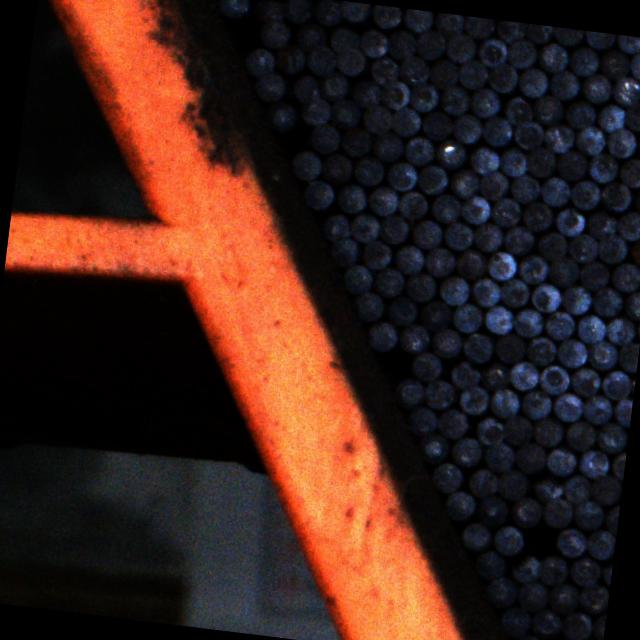tool: (550, 524, 588, 560), (428, 458, 464, 495), (345, 208, 382, 244), (445, 163, 481, 200), (441, 486, 477, 522), (452, 246, 488, 282), (512, 250, 548, 286), (534, 38, 570, 74), (544, 579, 580, 615), (417, 106, 454, 141), (496, 466, 530, 504), (484, 572, 519, 608), (422, 374, 457, 410), (240, 43, 276, 78), (290, 19, 328, 52), (529, 468, 564, 503), (543, 443, 578, 478), (391, 375, 426, 410), (418, 296, 453, 331), (460, 330, 496, 364), (349, 288, 385, 322), (384, 292, 420, 326), (372, 263, 406, 299), (544, 254, 580, 288), (300, 177, 336, 211), (392, 187, 428, 221), (316, 150, 352, 184), (251, 68, 287, 102), (256, 16, 292, 50), (566, 42, 600, 78), (566, 554, 602, 588), (570, 498, 606, 532), (588, 472, 624, 506), (562, 418, 598, 452), (580, 392, 614, 428), (593, 232, 629, 266), (598, 178, 634, 212), (528, 414, 566, 446), (513, 440, 548, 474), (416, 429, 450, 464), (407, 349, 442, 383), (396, 320, 431, 354), (339, 260, 374, 294), (589, 285, 624, 319), (518, 198, 554, 231), (351, 152, 387, 185), (370, 129, 406, 162), (328, 96, 364, 129), (575, 446, 611, 479), (356, 238, 393, 270), (498, 604, 532, 638), (448, 434, 482, 468), (455, 382, 489, 416), (468, 274, 502, 308), (552, 204, 586, 238), (566, 176, 600, 210), (307, 120, 341, 154), (402, 132, 436, 166), (432, 136, 466, 170), (524, 144, 558, 178), (332, 44, 366, 78), (514, 64, 548, 98), (384, 26, 418, 60), (576, 582, 610, 616), (567, 364, 601, 398), (583, 338, 617, 372), (582, 206, 616, 240), (586, 150, 620, 184), (603, 126, 637, 160), (596, 46, 630, 80), (510, 494, 545, 527), (465, 464, 498, 499), (446, 356, 481, 389), (358, 101, 393, 134), (395, 53, 430, 86), (508, 548, 540, 584), (490, 522, 526, 554), (366, 316, 398, 352), (552, 336, 588, 368), (450, 298, 482, 334), (340, 124, 372, 160), (262, 98, 298, 130), (302, 42, 338, 74), (585, 526, 617, 562), (529, 606, 562, 640), (482, 440, 515, 474), (477, 358, 510, 392), (492, 331, 526, 364), (390, 242, 424, 275), (500, 223, 534, 256), (488, 195, 522, 228), (288, 147, 322, 180), (556, 146, 589, 180), (510, 118, 543, 152), (572, 122, 605, 156), (560, 471, 593, 505), (595, 420, 628, 454), (598, 367, 632, 400), (473, 548, 508, 580), (434, 406, 469, 438), (403, 270, 438, 302), (436, 274, 471, 306), (408, 218, 443, 250), (473, 35, 508, 67), (541, 496, 574, 529), (333, 180, 366, 213), (364, 183, 397, 216), (564, 95, 597, 128), (550, 388, 582, 422), (536, 362, 570, 394), (430, 324, 462, 358), (422, 244, 454, 278), (470, 220, 504, 252), (458, 192, 490, 226), (497, 142, 529, 176), (449, 112, 483, 144), (348, 76, 382, 108), (407, 80, 441, 112), (468, 84, 500, 118), (455, 56, 489, 88), (578, 257, 610, 291), (413, 163, 448, 194), (473, 413, 506, 445), (511, 306, 544, 338), (529, 280, 561, 313), (428, 191, 461, 223), (389, 106, 422, 138), (541, 120, 574, 152), (486, 61, 518, 94), (505, 36, 537, 69), (602, 314, 635, 346), (593, 99, 625, 132), (506, 359, 540, 390), (578, 73, 612, 104), (327, 23, 361, 54), (459, 518, 491, 550), (501, 412, 533, 444), (520, 386, 552, 418), (542, 308, 574, 340), (498, 276, 530, 308), (559, 282, 591, 314), (484, 248, 516, 280), (378, 213, 410, 245), (566, 231, 598, 263), (384, 158, 416, 190), (478, 168, 510, 200), (290, 70, 322, 102), (438, 83, 470, 115), (502, 93, 534, 125), (532, 92, 564, 124), (426, 56, 458, 88), (574, 310, 606, 342), (608, 74, 640, 106), (475, 494, 508, 525), (538, 174, 569, 207), (466, 142, 499, 173), (547, 69, 580, 100), (415, 27, 446, 60), (560, 609, 593, 640), (609, 259, 640, 292), (538, 552, 568, 586), (488, 386, 522, 416), (407, 402, 438, 434), (328, 235, 359, 267), (319, 209, 350, 241), (298, 94, 330, 125), (481, 114, 512, 146), (378, 78, 410, 109), (273, 41, 305, 72), (368, 54, 399, 85), (516, 580, 548, 610), (480, 302, 512, 332), (442, 220, 474, 250), (318, 70, 350, 100), (613, 206, 640, 241), (536, 229, 567, 259), (508, 171, 539, 201), (357, 26, 388, 56), (526, 333, 554, 366), (446, 32, 476, 62), (532, 625, 589, 640), (399, 8, 433, 32), (615, 340, 640, 372), (609, 395, 633, 428), (278, 0, 312, 23), (309, 0, 340, 25), (430, 11, 462, 35), (492, 19, 524, 43), (617, 155, 640, 188), (247, 0, 283, 21), (582, 30, 616, 52), (369, 4, 400, 28), (338, 0, 370, 23), (214, 0, 249, 20), (606, 448, 626, 483), (462, 16, 493, 38), (552, 26, 584, 46), (622, 99, 640, 134), (602, 502, 620, 536), (522, 23, 552, 43), (622, 287, 640, 318), (614, 34, 640, 54), (627, 49, 640, 82), (627, 234, 640, 265), (630, 182, 640, 215), (510, 632, 545, 640)
void: (510, 512, 570, 570), (372, 343, 410, 380), (226, 12, 262, 50), (276, 118, 312, 154)
